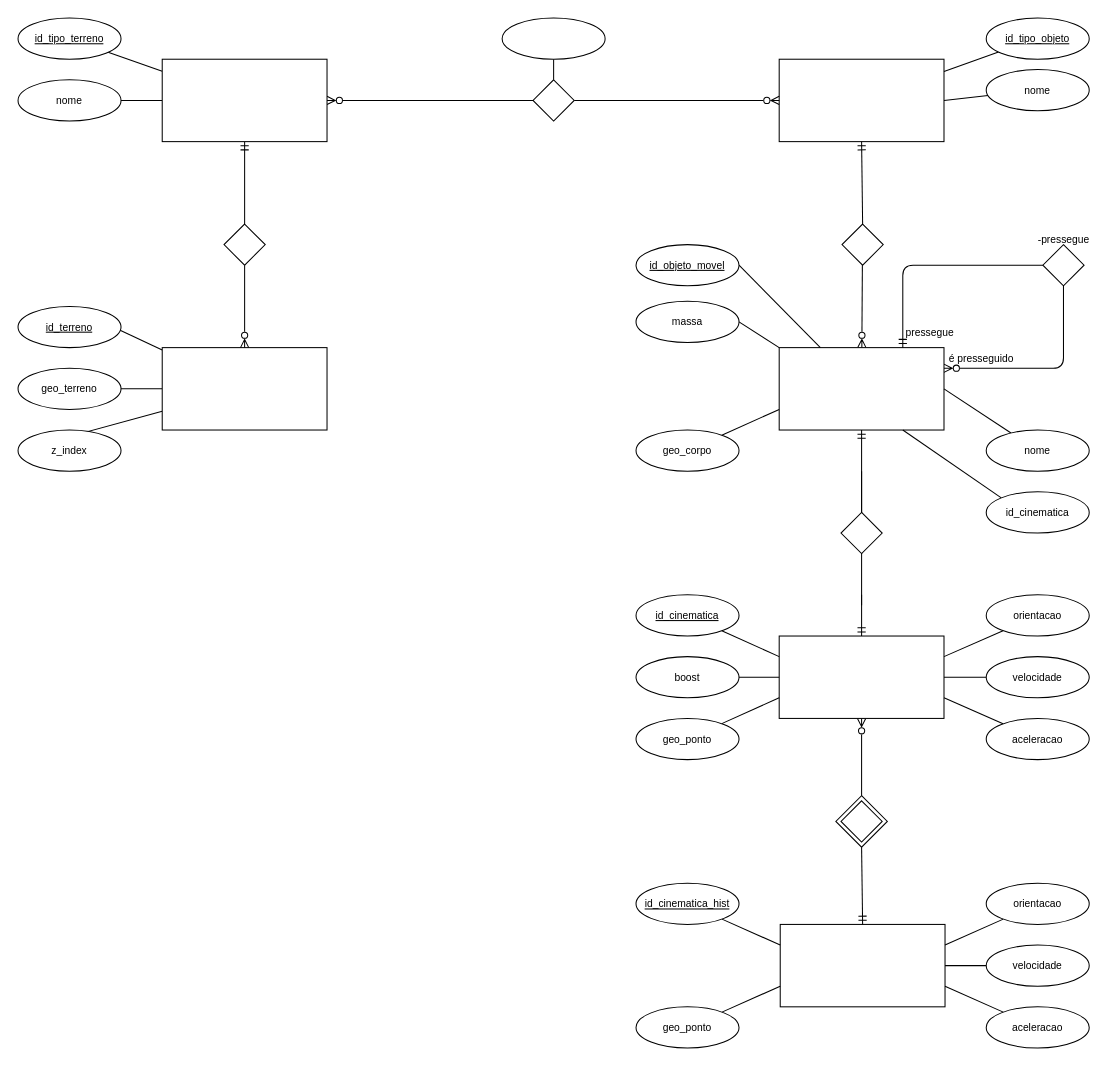
Image size: 1118x1066. Some labels were removed from this diagram. Here are the shapes that lost their labels. From the top down, the centre of each, then its label:
At pixel 553 38: "coef_atrito".
At pixel 244 100: "TIPO_TERRENO".
At pixel 861 100: "TIPO_OBJETO_MOVEL".
At pixel 244 388: "TERRENO".
At pixel 861 388: "OBJETO_MOVEL".
At pixel 861 676: "CINEMATICA".
At pixel 862 965: "CINEMATICA_HIST".
